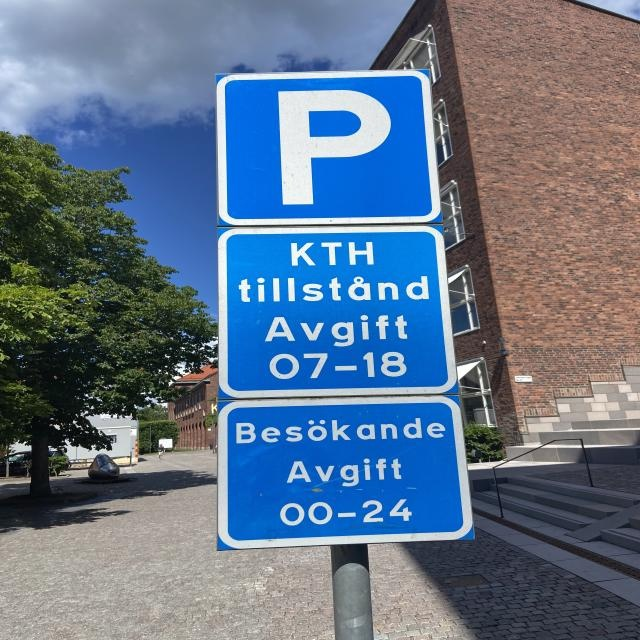P-skylt: (212, 68, 447, 224)
